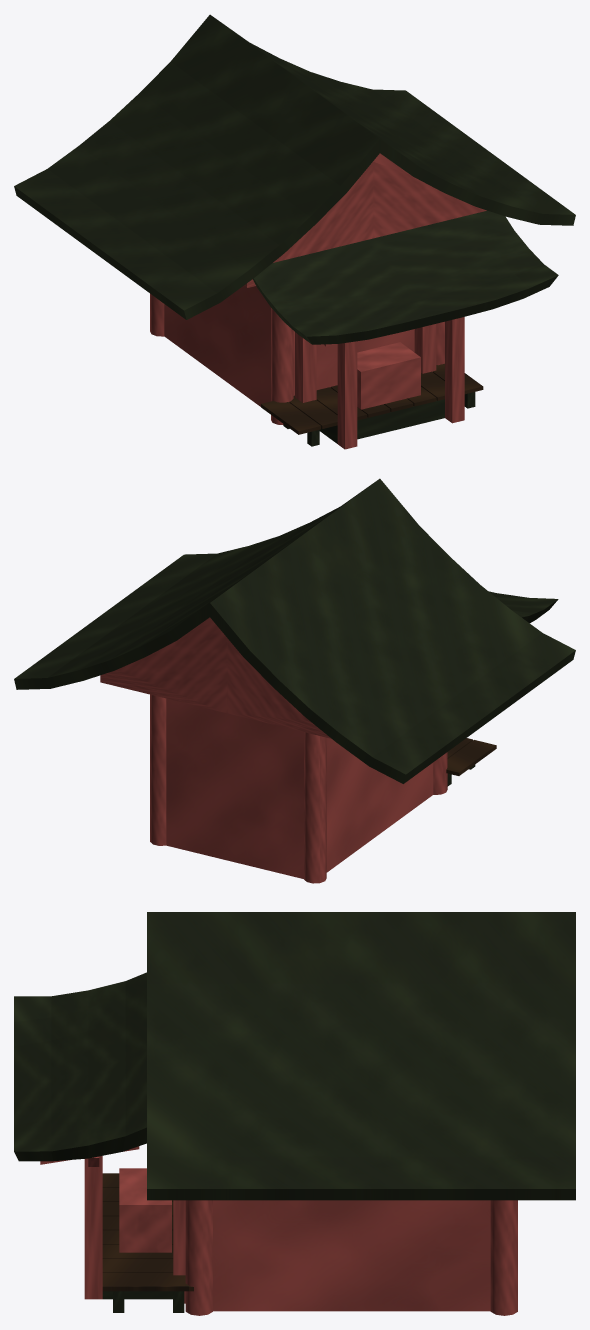
File: shrineStuff.gltf
3 renders of one model, top to bottom at view 1: azimuth 30°, elevation 25°; view 2: azimuth 150°, elevation 25°; view 3: azimuth 270°, elevation 25°, orthographic. The views are drawn at different scales.
Parts seen in each view (by area): view 1: Plane.006, Plane.005, Cube.015, Plane.007, Cube.004, Cube.017, Cube.020, Cube.016, Cube.018, Cube.012; view 2: Plane.006, Cube.015, Plane.008, Cube.016, Cube.017, Plane.005; view 3: Plane.006, Cube.015, Plane.005, Cube.016, Cube.017, Cube.020, Cube.004, Cube.018, Cube.012.
Part boxes in pixels (x1,y1,x2,y2): Plane.006: [14, 14, 575, 319]; Plane.005: [253, 210, 558, 344]; Cube.015: [164, 286, 414, 406]; Plane.007: [244, 153, 486, 287]; Cube.004: [337, 317, 464, 449]; Cube.017: [261, 363, 483, 434]; Cube.020: [357, 342, 420, 409]; Cube.016: [150, 293, 444, 424]; Cube.018: [295, 324, 436, 402]; Cube.012: [319, 399, 444, 443]; Plane.006: [14, 478, 575, 783]; Cube.015: [166, 698, 433, 878]; Plane.008: [100, 617, 331, 738]; Cube.016: [150, 694, 447, 883]; Cube.017: [446, 738, 496, 775]; Plane.005: [489, 591, 558, 623]; Plane.006: [147, 912, 575, 1200]; Cube.015: [213, 1200, 490, 1311]; Plane.005: [14, 972, 146, 1161]; Cube.016: [185, 1200, 517, 1315]; Cube.017: [102, 1173, 193, 1291]; Cube.020: [119, 1168, 171, 1252]; Cube.004: [84, 1156, 102, 1299]; Cube.018: [173, 1200, 185, 1303]; Cube.012: [102, 1291, 172, 1299].
Size of the model in its own units: 21.72 by 14.72 by 21.38.
Materials: 4 (4 with a texture image).
